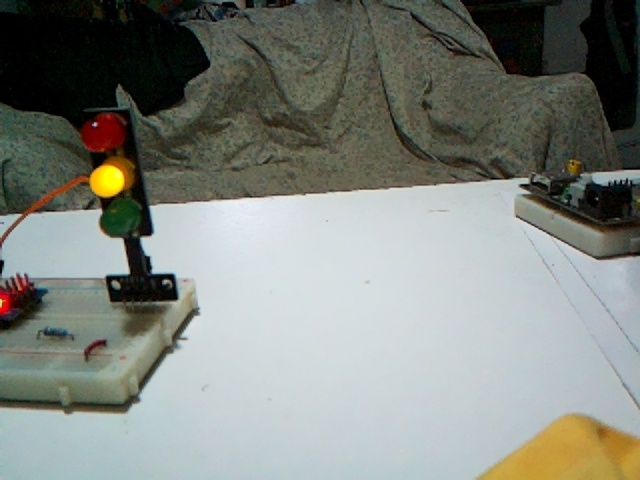traffic_light_yellow: (81, 107, 155, 238)
